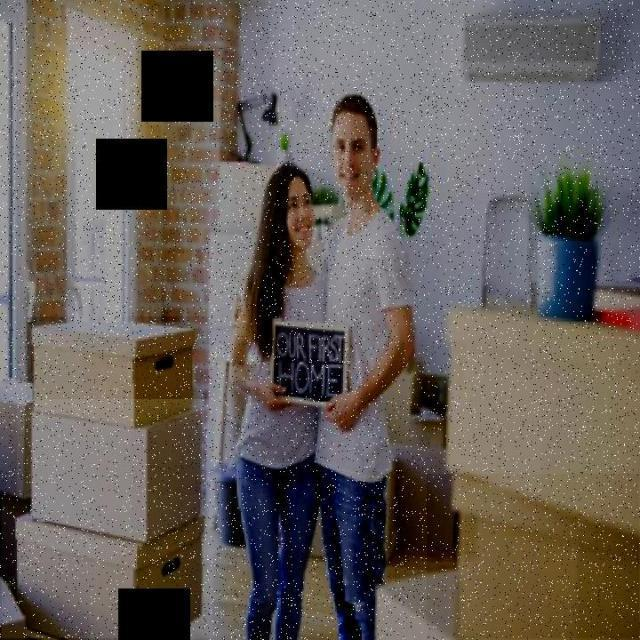box: (442, 302, 638, 556), (426, 474, 640, 638), (17, 399, 222, 553), (1, 494, 212, 638), (27, 316, 214, 433)
